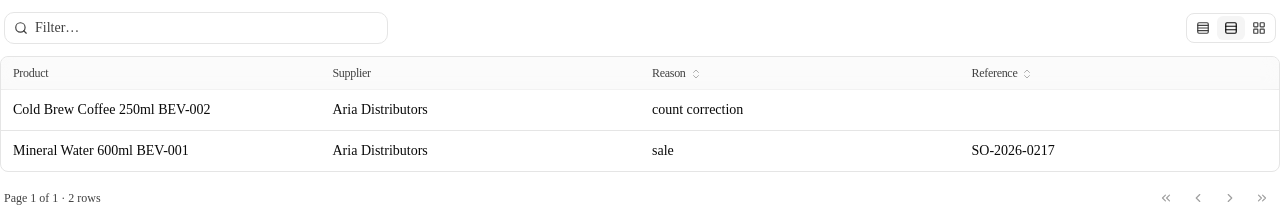
it: DataTable global filter wiring › finds a SKU that only exists inside a cell-only column (cause A)
Type "BEV-001" into the field named "filter table" at (196, 28), box [4,12,388,44]
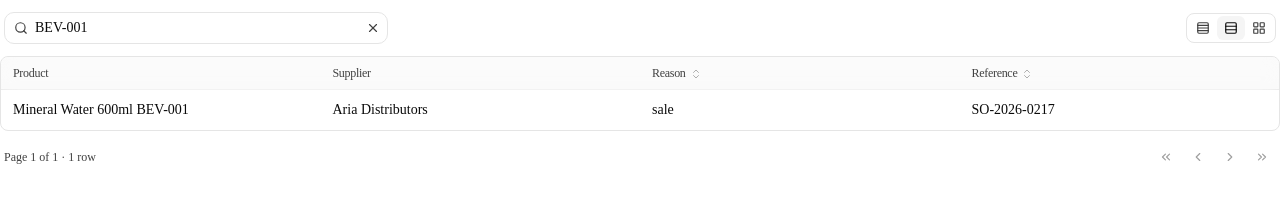
Expected: the text "Mineral Water 600ml BEV-001" is shown, [13,102,189,117]
Expected: the text "Cold Brew Coffee" is gone
